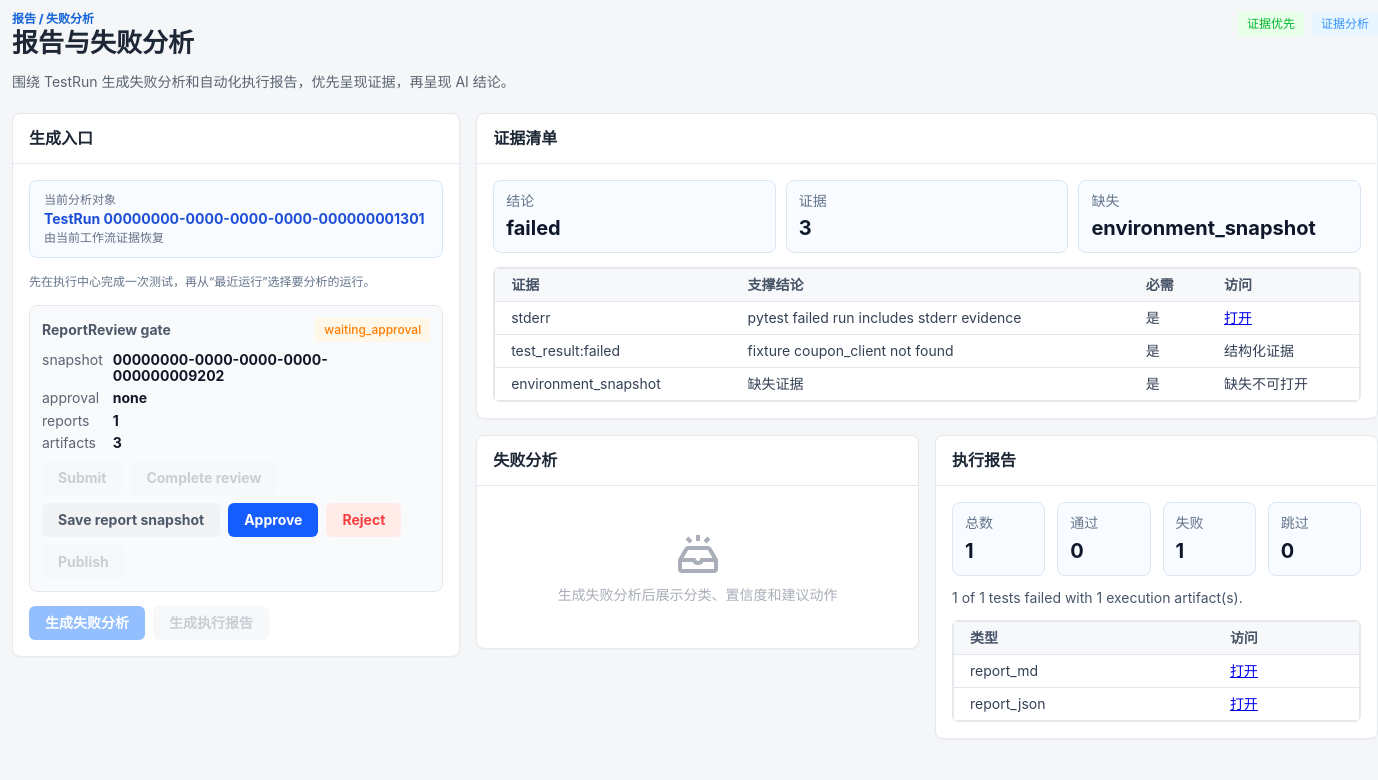
Scenario: ReportFailureAnalysisView › restores the exact ReportReview, report evidence, and server-owned publication lock
Expected: the element with test id "report-review-panel" is shown, [29,305,443,592]
Expected: the button with test id "start-failure-analysis" is disabled, [29,606,145,640]
Click the button with test id "report-review-approve".
click(273, 520)  # box [228,503,318,537]
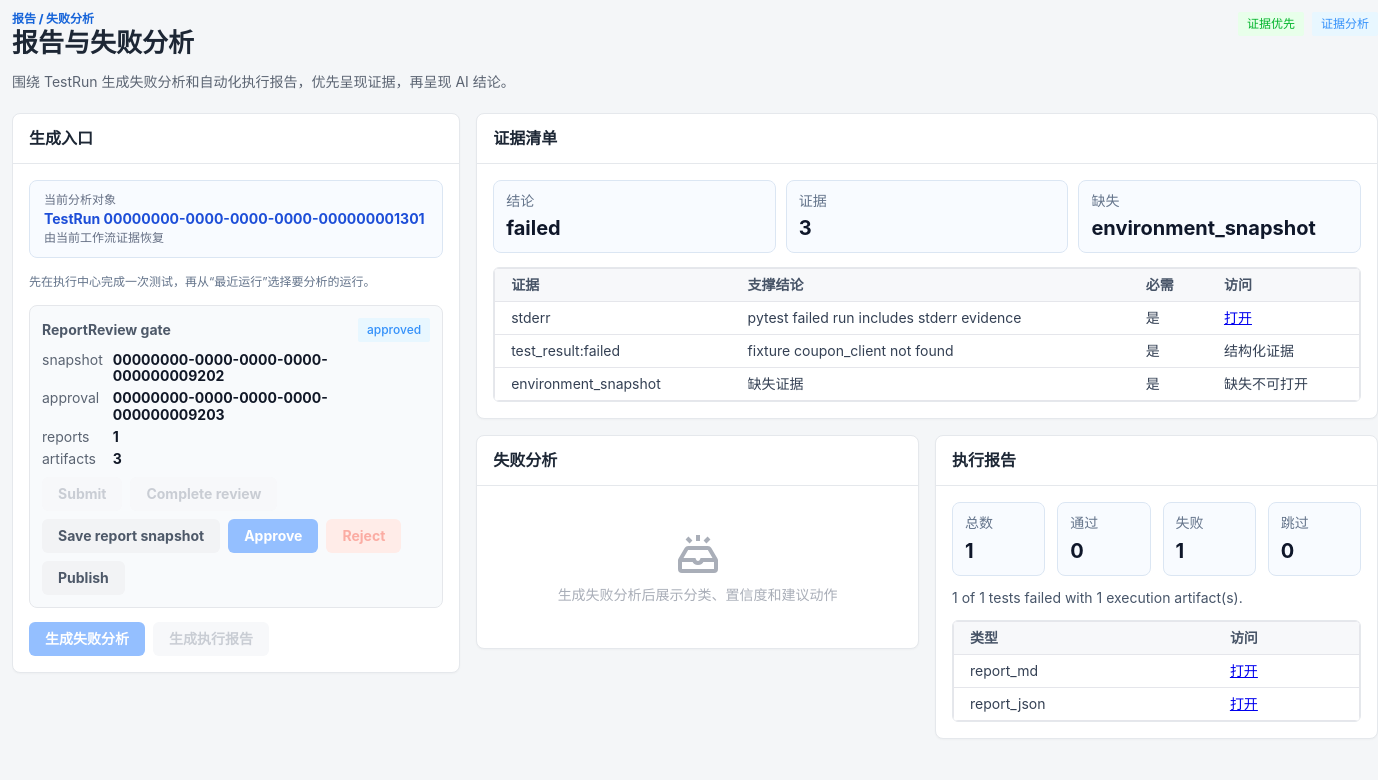
Click the button with test id "report-review-continue".
click(83, 578)  # box [42,561,125,595]
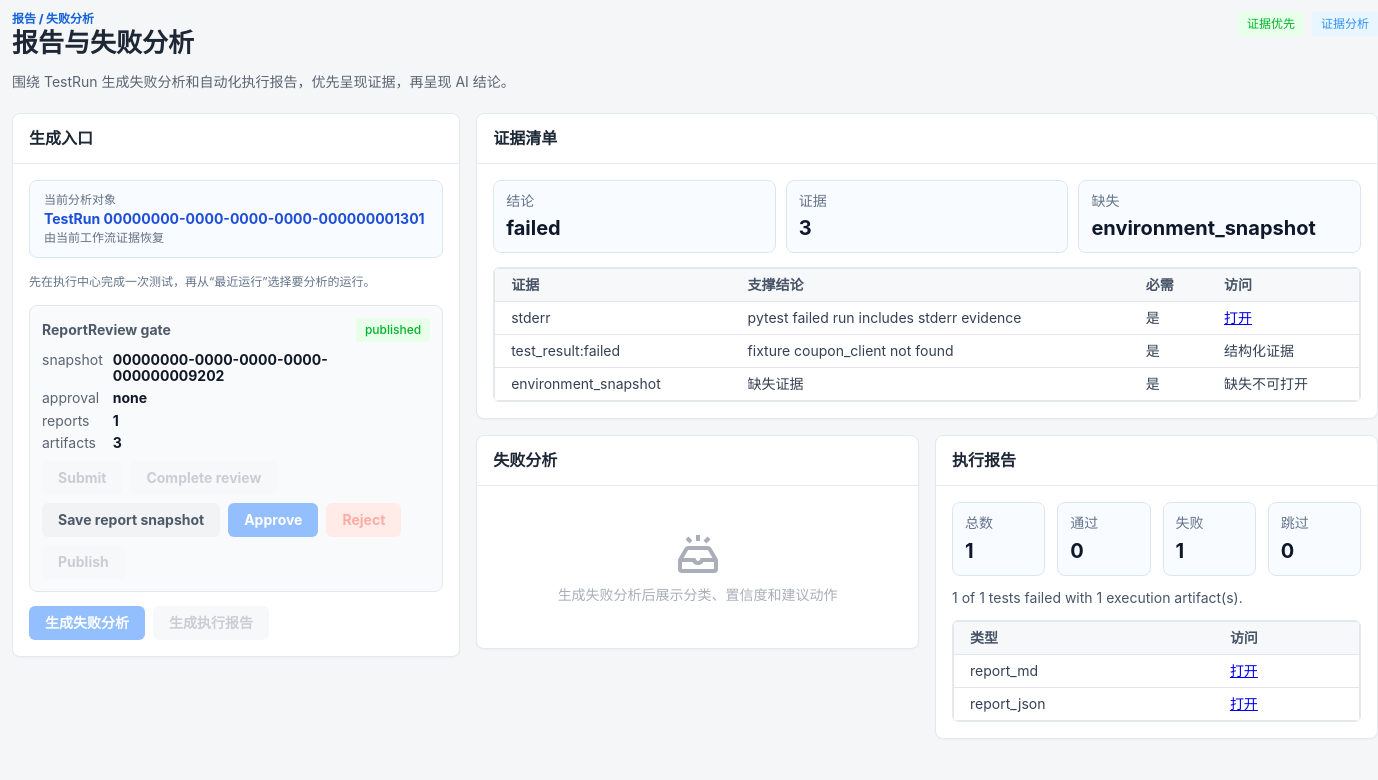
Expected: the text "published" is shown, [356,318,430,342]
